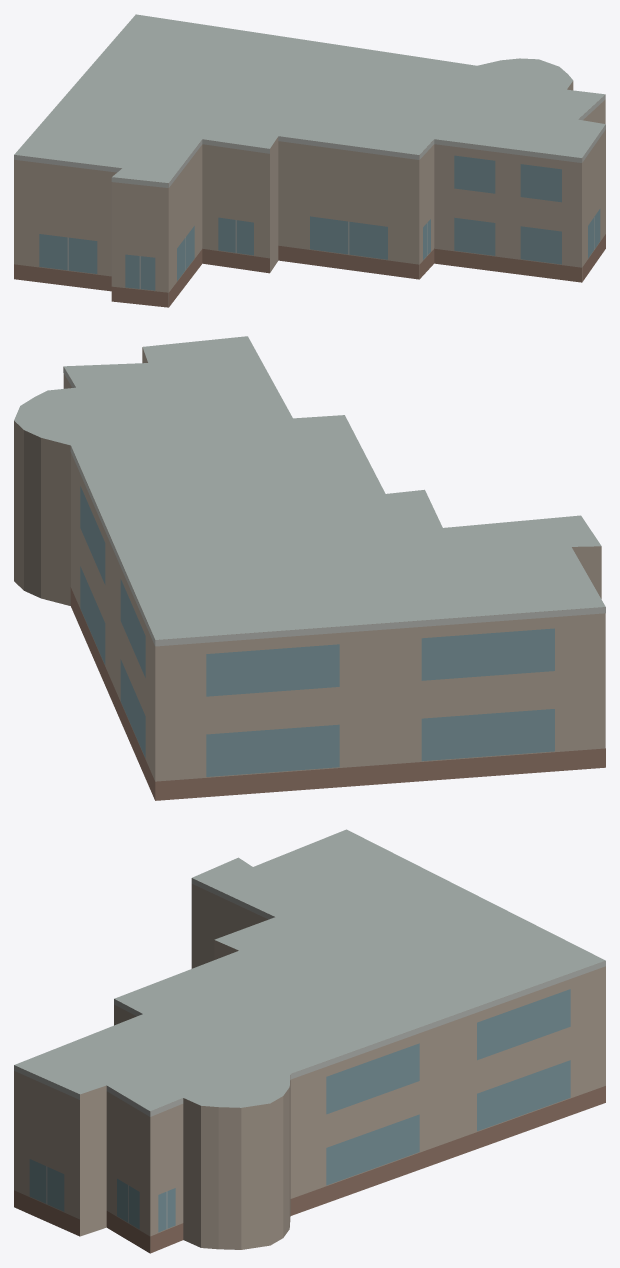
The model's file is survey-upis-32852077.glb.
3 views of the same model, one above another, from view 1: azimuth 30°, elevation 25°; view 2: azimuth 150°, elevation 25°; view 3: azimuth 270°, elevation 25° (orthographic). The views are drawn at different scales.
Visible parts, largest first — view 1: survey-upis-32852077.tmp; view 2: survey-upis-32852077.tmp; view 3: survey-upis-32852077.tmp.
Part boxes in pixels (box(x1,y1,x2,y2)): survey-upis-32852077.tmp: box(14, 14, 605, 307); survey-upis-32852077.tmp: box(14, 336, 605, 800); survey-upis-32852077.tmp: box(14, 829, 605, 1253).
Bounding box in the file's own units: 25.96 × 6.1 × 23.02.
